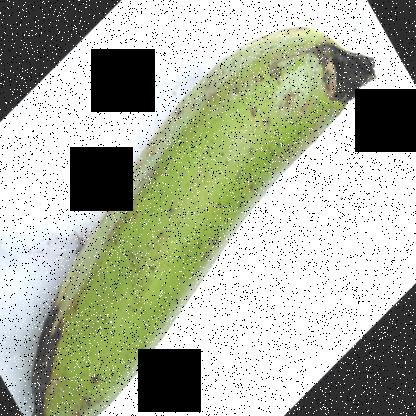rotten: (12, 290, 77, 415)
unripe: (62, 8, 368, 415)
